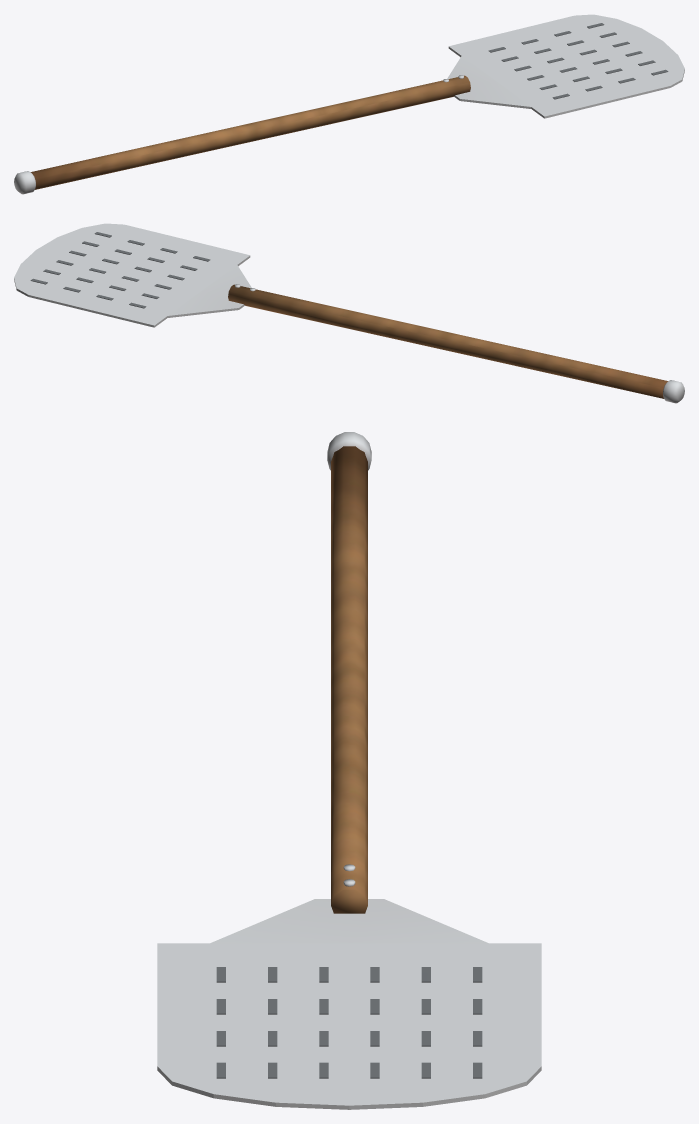
Rendered from fp-peel.gltf.
3 renders of one model, top to bottom at view 1: azimuth 30°, elevation 25°; view 2: azimuth 150°, elevation 25°; view 3: azimuth 270°, elevation 25°, orthographic. The views are drawn at different scales.
Visible parts, largest first — view 1: model; view 2: model; view 3: model.
Boxes of the visible parts, x1,y1,x2,y2 form: model: (14, 14, 684, 194); model: (14, 223, 684, 403); model: (157, 432, 541, 1109).
Bounding box in the file's own units: 1.28 × 0.0517 × 0.33.
3 materials, 1 textured.
